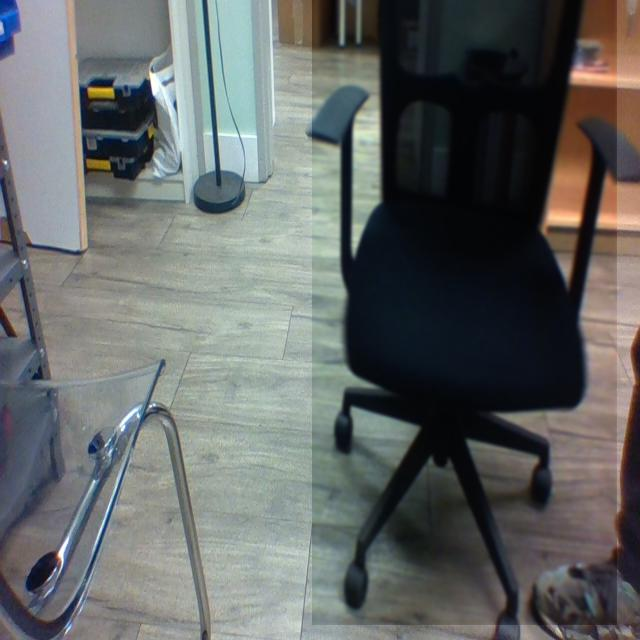black-chair: (312, 0, 618, 626)
